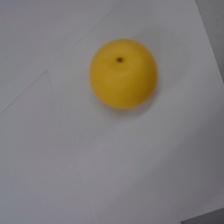yellow: (90, 39, 157, 109)
